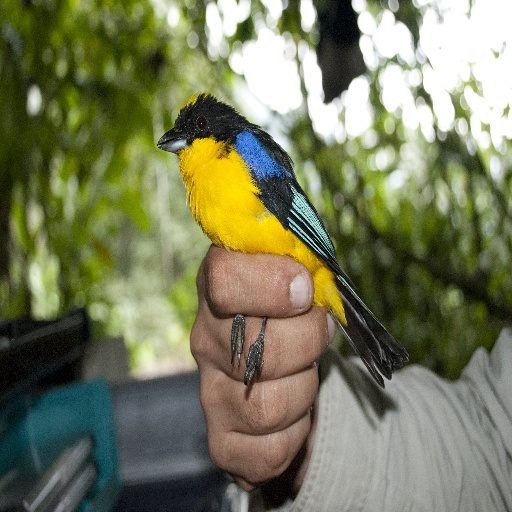hand: (182, 245, 361, 484)
